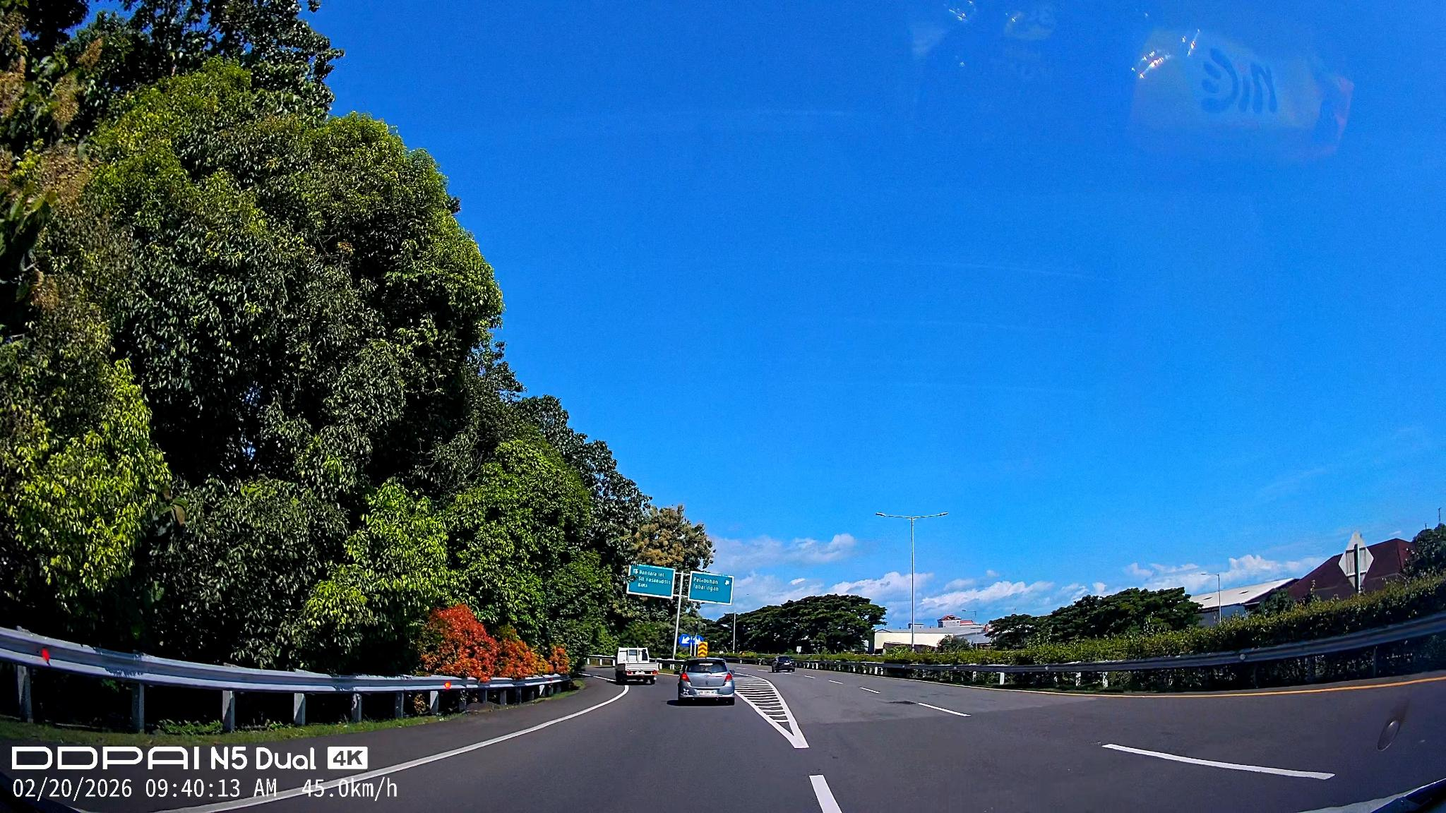rambu_teks: (626, 563, 676, 599), (687, 570, 735, 605)
